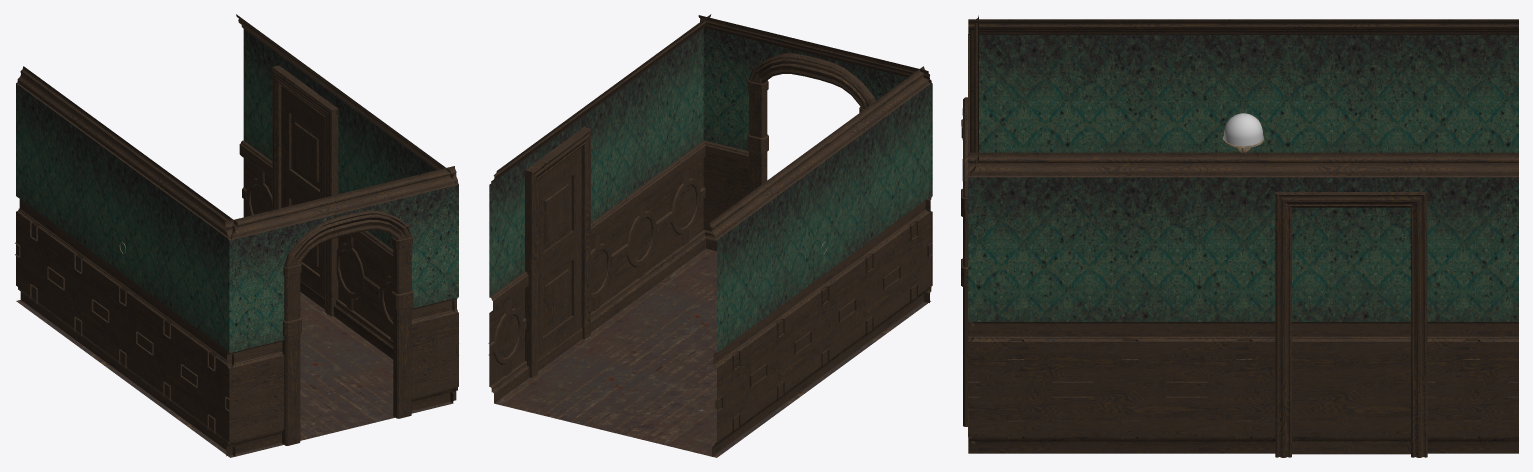
The model's file is EnvironmentCole.fbx.
The picture shows the model from 3 angles, left to right: view 1: azimuth 30°, elevation 25°; view 2: azimuth 150°, elevation 25°; view 3: azimuth 270°, elevation 25°; orthographic projection. The views are drawn at different scales.
Visible parts, largest first — view 1: wall, wall2, wall1, floor, archway, door, doorframe, wainscotting1, wainscotting; view 2: wall, wall1, floor, wall2, door, doorframe, archway, wainscotting1, wainscotting; view 3: wall1, wall, doorframe, archway, door, wall2, light_1, wainscotting1.
Part boxes in pixels (box(x1,y1,x2,y2)): wall: box(16, 66, 237, 456); wall2: box(225, 166, 458, 456); wall1: box(236, 14, 457, 403); floor: box(16, 292, 452, 457); archway: box(282, 210, 413, 445); door: box(281, 85, 324, 298); doorframe: box(272, 65, 338, 316); wainscotting1: box(242, 168, 456, 354); wainscotting: box(15, 221, 229, 433); wall: box(709, 66, 931, 456); wall1: box(489, 14, 711, 403); floor: box(494, 248, 930, 457); wall2: box(698, 15, 932, 302); door: box(538, 147, 581, 359); doorframe: box(525, 127, 590, 377); archway: box(747, 53, 875, 193); wainscotting1: box(488, 169, 705, 375); wainscotting: box(715, 221, 932, 433); wall1: box(968, 152, 1518, 453); wall: box(968, 19, 1518, 152); doorframe: box(1275, 192, 1427, 457); archway: box(961, 97, 968, 426); door: box(1292, 441, 1410, 454); wall2: box(968, 15, 978, 444); light_1: box(1222, 113, 1264, 152); wainscotting1: box(968, 339, 1518, 438).
Size of the model in its own units: 311 by 300 by 507.
